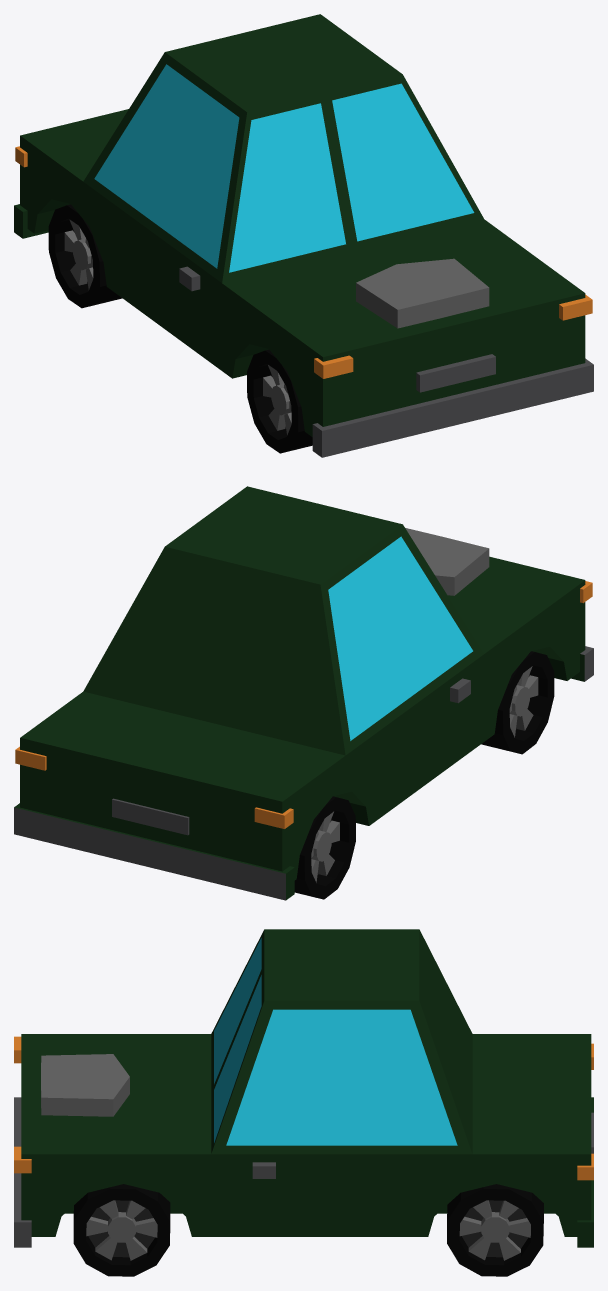
The model's file is AutoVerde.fbx.
3 views of the same model, one above another, from view 1: azimuth 30°, elevation 25°; view 2: azimuth 150°, elevation 25°; view 3: azimuth 270°, elevation 25° (orthographic). The views are drawn at different scales.
Visible parts, largest first — view 1: GreenCar; view 2: GreenCar; view 3: GreenCar.
Part boxes in pixels (<box>): GreenCar: <box>14,14,593,457</box>; GreenCar: <box>14,486,593,900</box>; GreenCar: <box>14,929,593,1276</box>.
Size of the model in its own units: 213 by 196 by 407.
